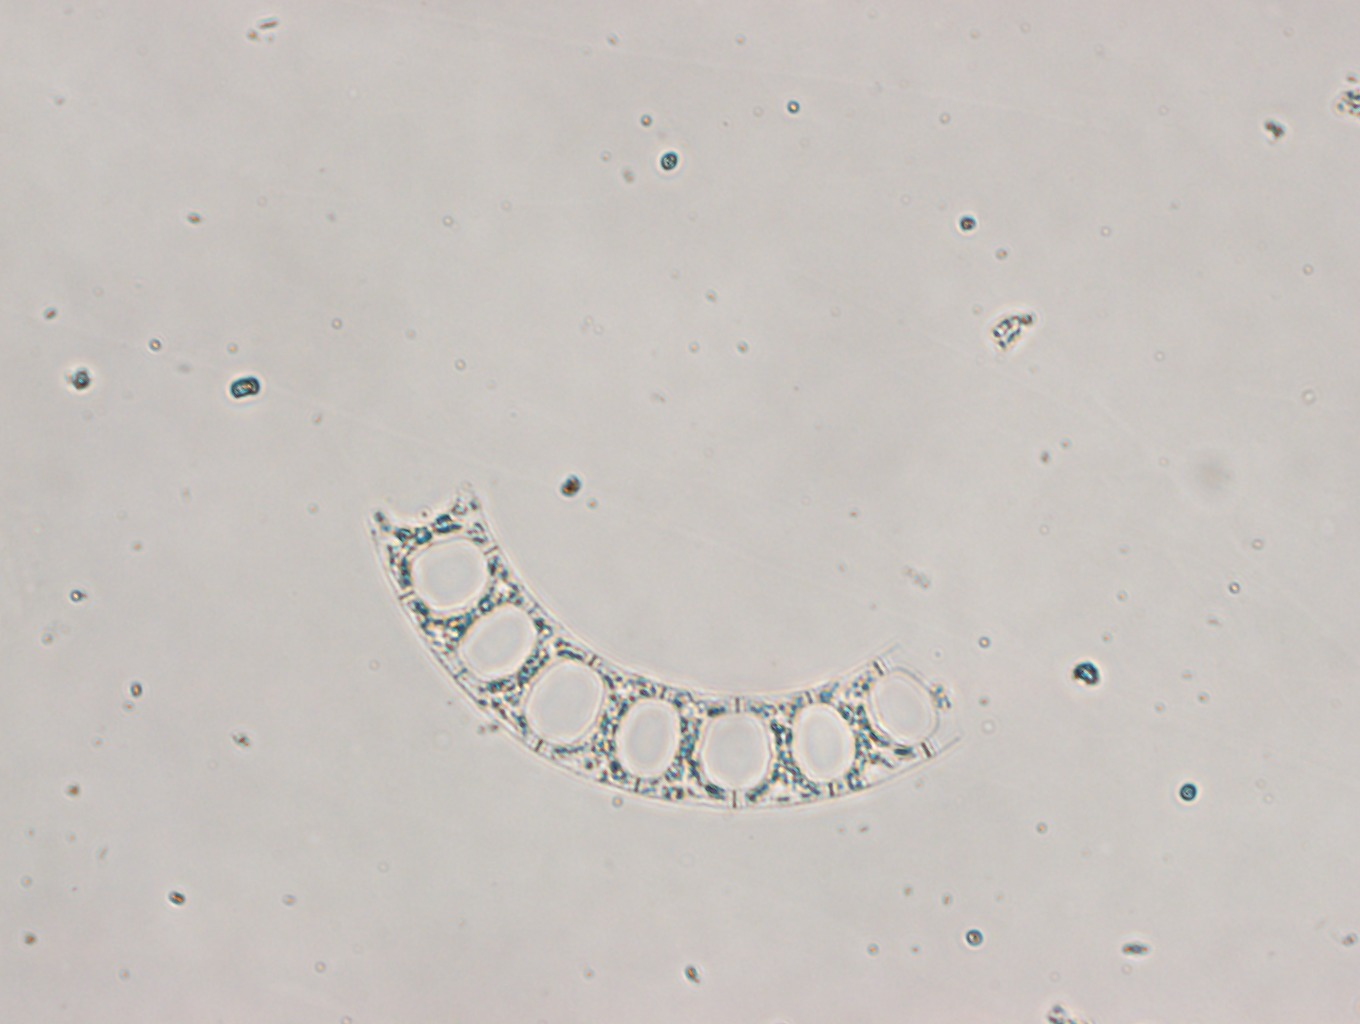eucampia: (367, 482, 961, 808)
